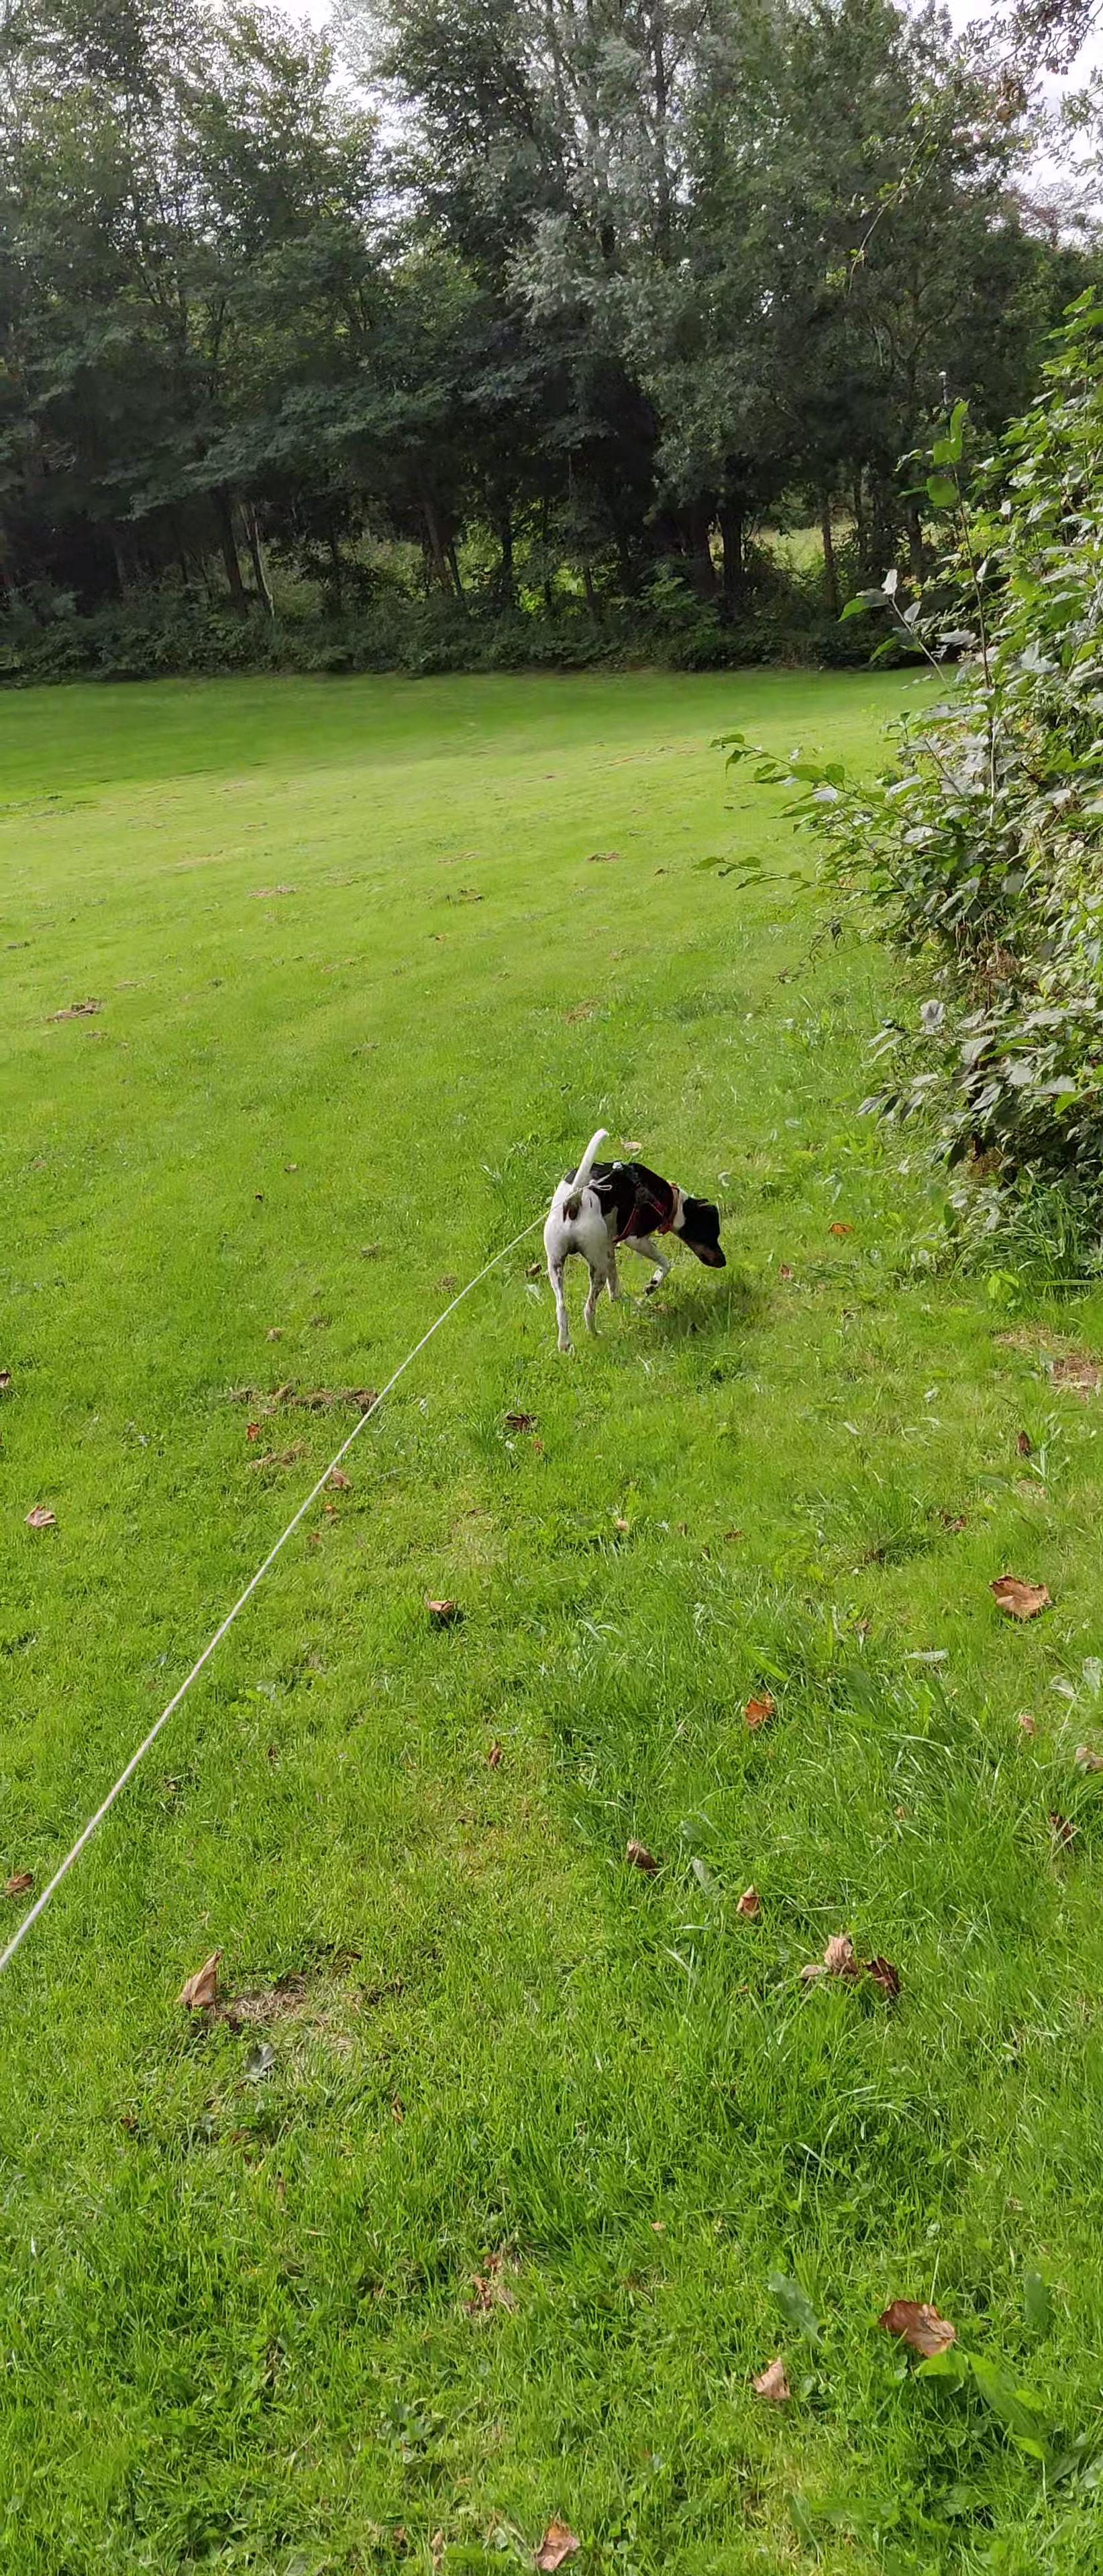Dog: (524, 1117, 741, 1357)
